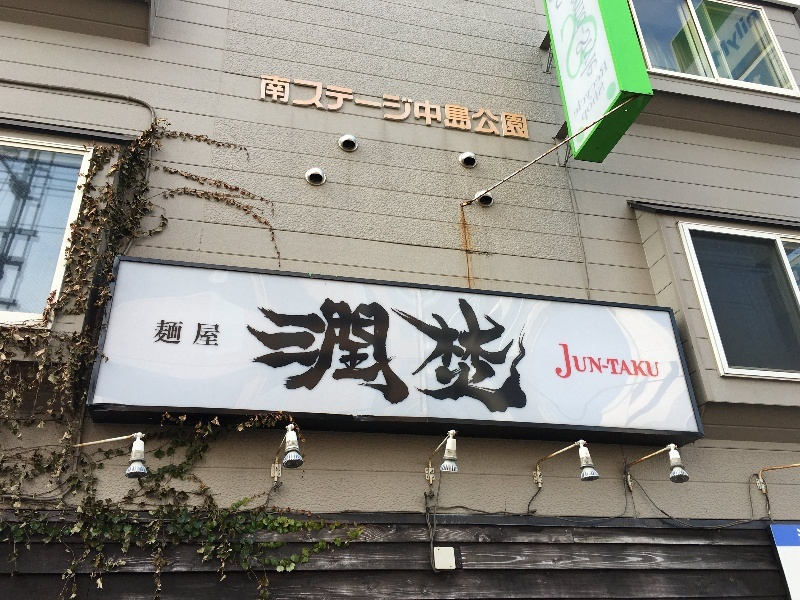text: (513, 282, 529, 415), (257, 282, 272, 415), (273, 282, 288, 415), (289, 282, 304, 415), (305, 282, 320, 415), (321, 282, 336, 415), (337, 282, 352, 415), (353, 282, 368, 415), (369, 282, 384, 415), (385, 282, 400, 415), (401, 282, 416, 415), (417, 282, 432, 415), (433, 282, 448, 415), (449, 282, 464, 415), (465, 282, 480, 415), (481, 282, 496, 415), (497, 282, 512, 415), (577, 2, 592, 86), (273, 72, 288, 141), (289, 72, 304, 141), (305, 72, 320, 141), (321, 72, 336, 141), (337, 72, 352, 141), (353, 72, 368, 141), (369, 72, 384, 141), (385, 72, 400, 141), (401, 72, 416, 141), (417, 72, 432, 141), (433, 72, 448, 141), (449, 72, 464, 141), (465, 72, 480, 141), (481, 72, 496, 141), (497, 72, 512, 141), (513, 72, 528, 141), (721, 4, 736, 71), (737, 4, 752, 71), (577, 58, 592, 124), (593, 58, 608, 124), (565, 2, 576, 86), (260, 72, 272, 141), (593, 76, 608, 124), (251, 282, 256, 415), (561, 343, 576, 386), (577, 343, 592, 386), (593, 343, 608, 386), (609, 343, 624, 386), (625, 343, 640, 386), (641, 343, 656, 386), (753, 4, 762, 71), (593, 2, 600, 86), (581, 76, 592, 124), (713, 4, 720, 71), (161, 320, 176, 348), (177, 320, 192, 348), (193, 320, 208, 348), (209, 320, 220, 348), (553, 343, 560, 386), (657, 343, 662, 386), (609, 58, 611, 124), (157, 320, 160, 348), (529, 72, 530, 141), (575, 58, 576, 124)
